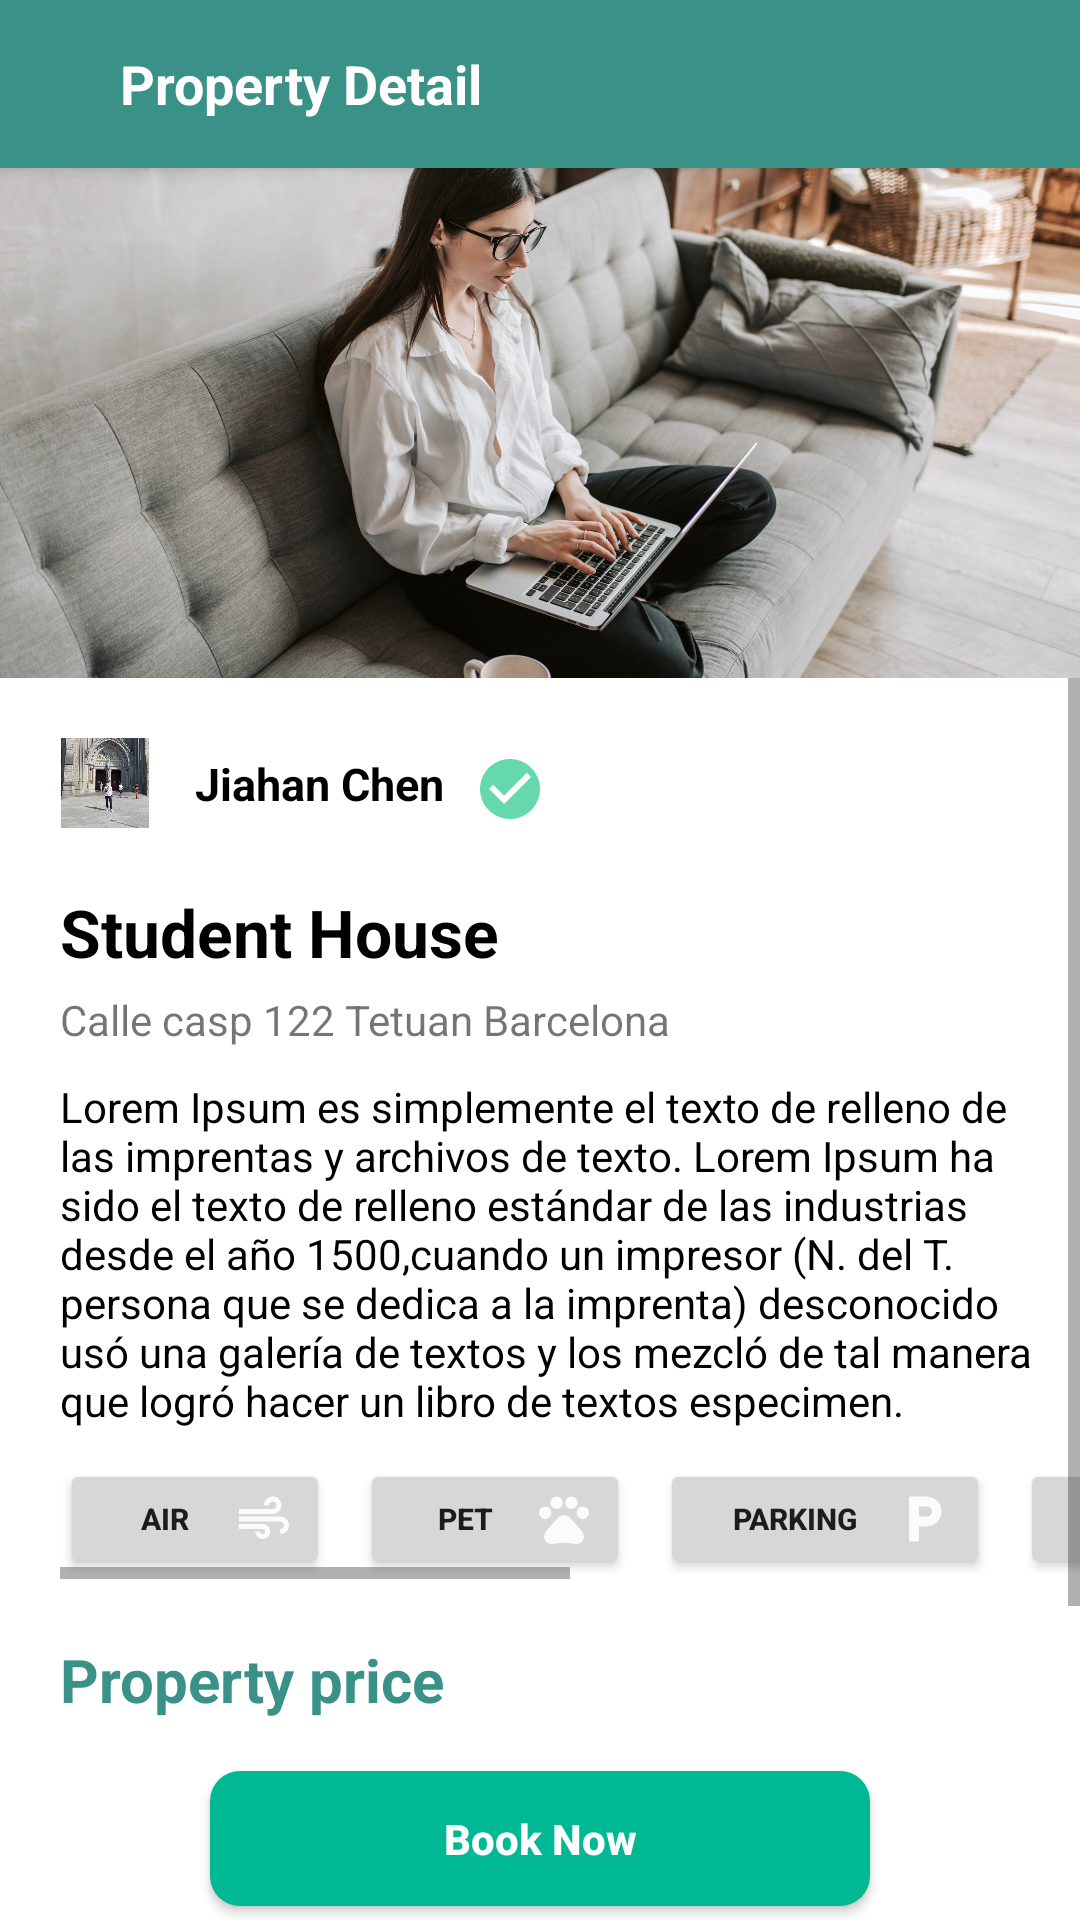

Icons on this 1080w x 1920h Android screen, each with its box as (x1, y1, x2, y2):
check circle: (480, 759, 540, 819)
